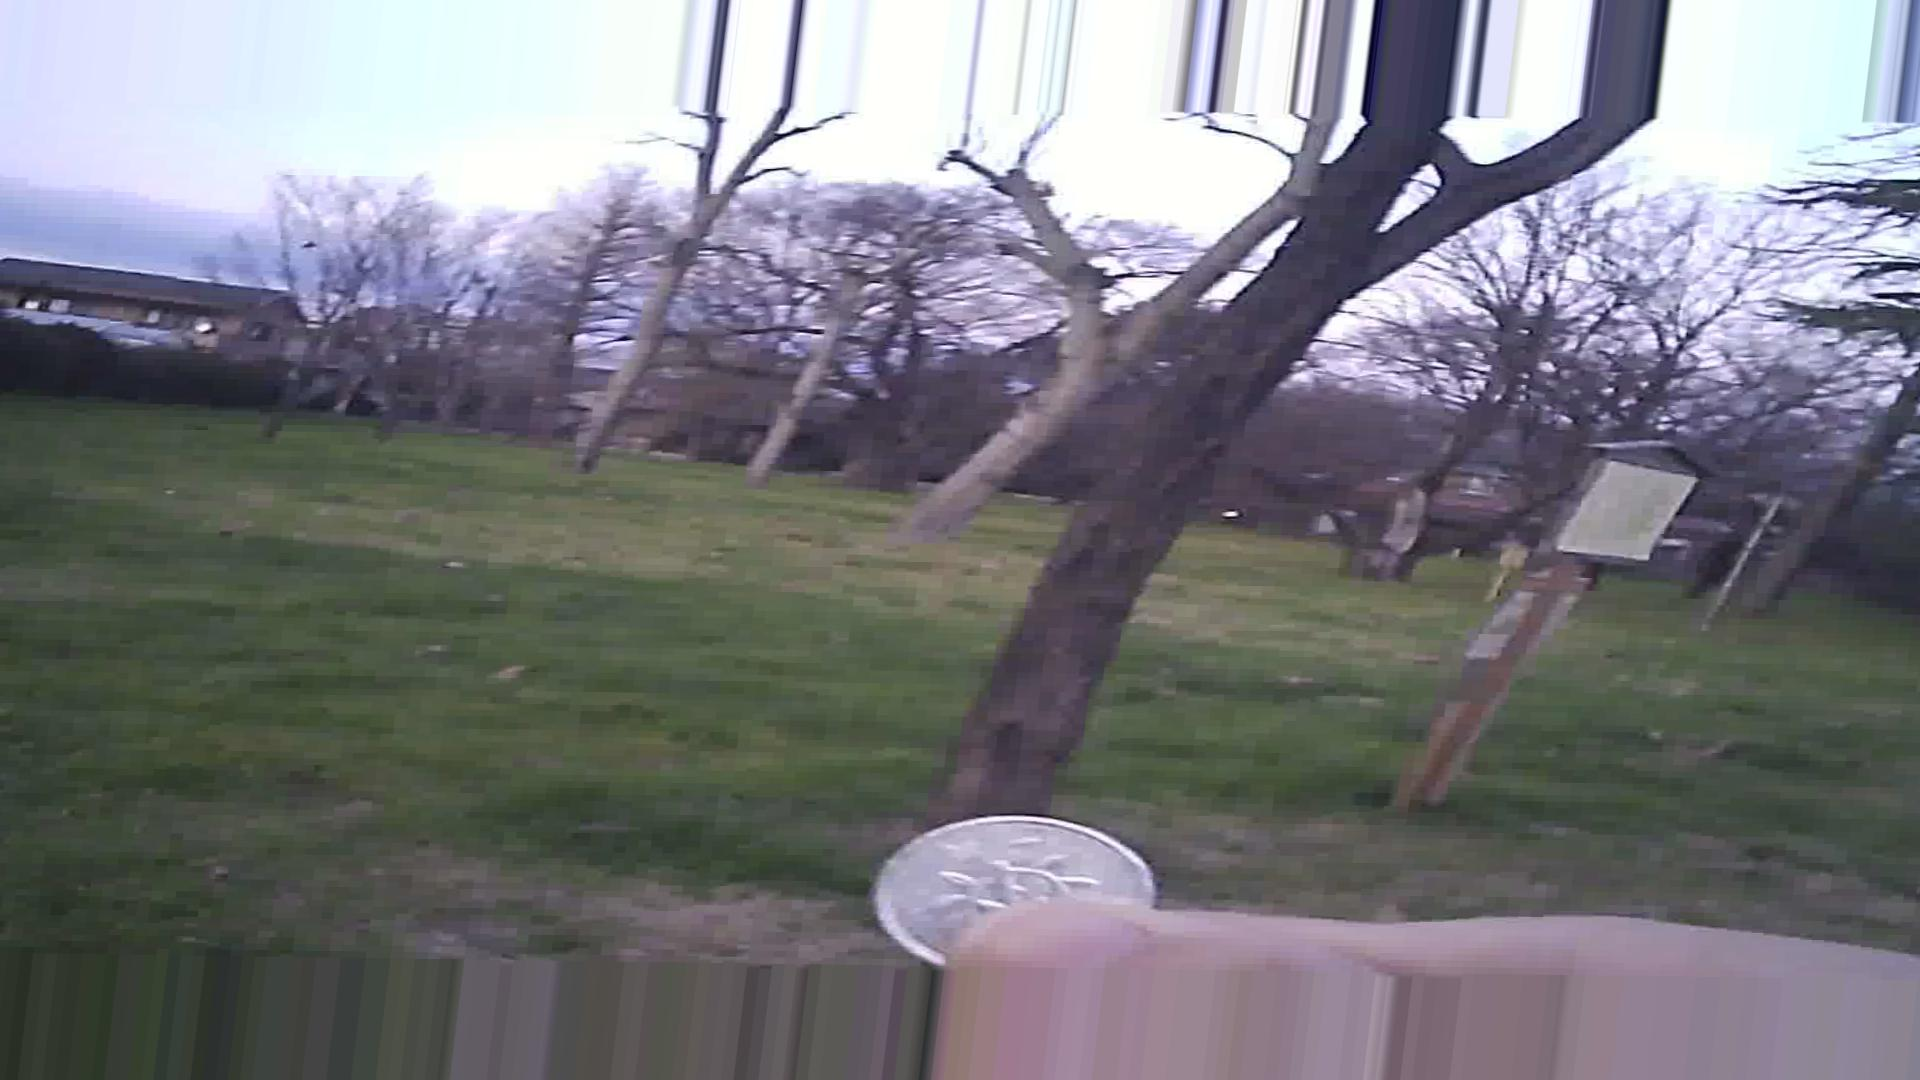1 Yen: (876, 819, 1160, 967)
